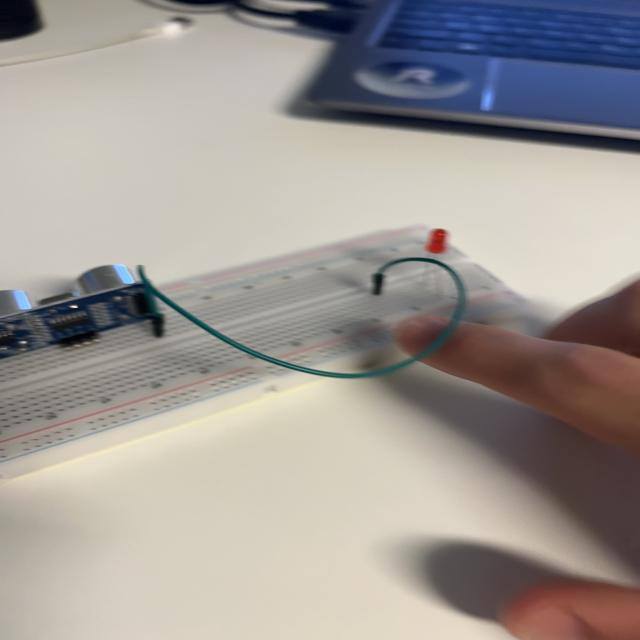BreadBoard: (18, 217, 535, 471)
REDLed: (411, 221, 456, 279)
UltrasoneSensor: (12, 262, 157, 355)
